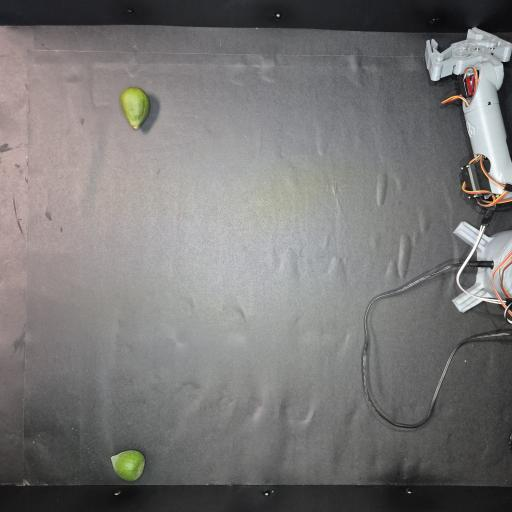higo: (120, 87, 149, 129), (111, 450, 145, 481)
